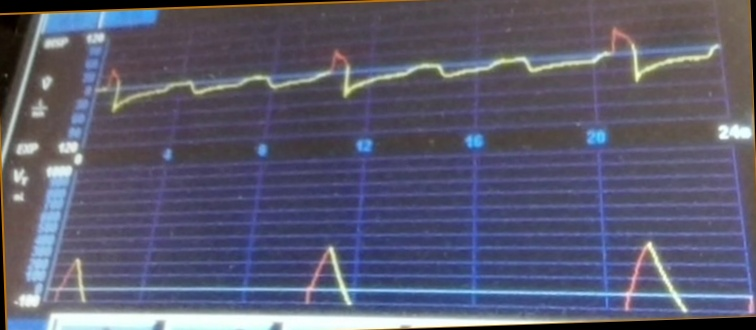Ineffective_effort Flow: (100, 25, 721, 115)
Ineffective_effort Volume: (50, 239, 697, 311)
